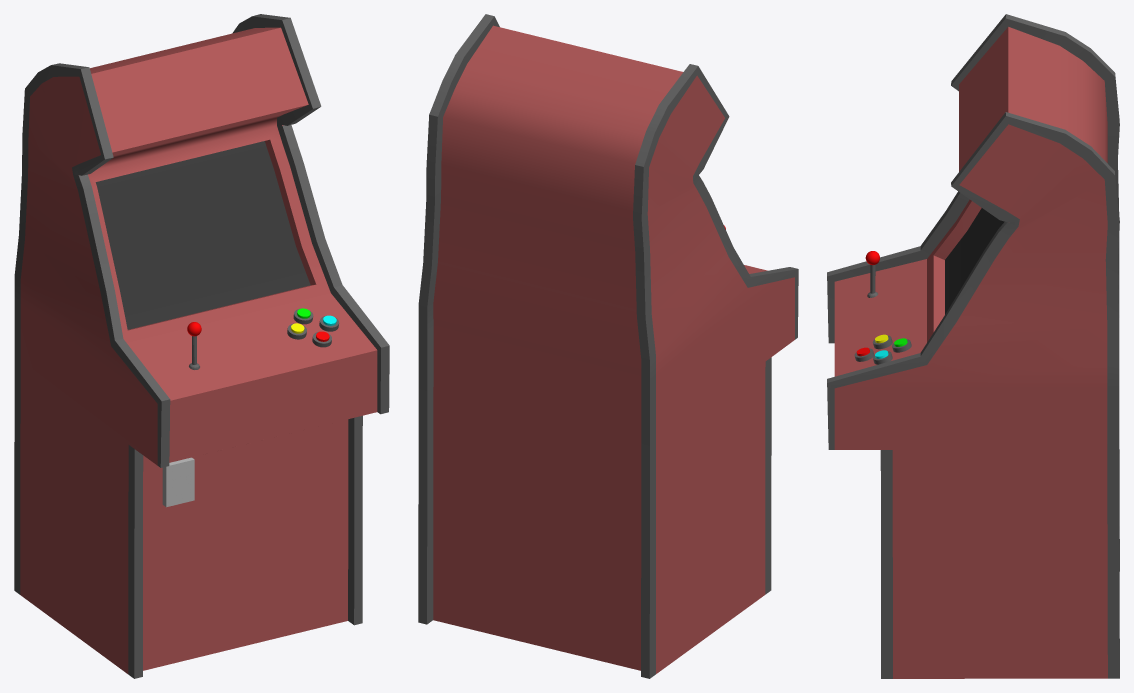
The model's file is arcadecabinet.fbx.
3 views of the same model, side by side, from view 1: azimuth 30°, elevation 25°; view 2: azimuth 150°, elevation 25°; view 3: azimuth 270°, elevation 25° (orthographic).
Visible parts, largest first — view 1: pCube1, pPlane1; view 2: pCube1; view 3: pCube1.
Boxes of the visible parts, x1,y1,x2,y2 form: pCube1: (14,14,389,678); pPlane1: (162,457,194,507); pCube1: (418,14,798,678); pCube1: (827,14,1119,678).
Size of the model in its own units: 2.21 by 5.2 by 2.47.
